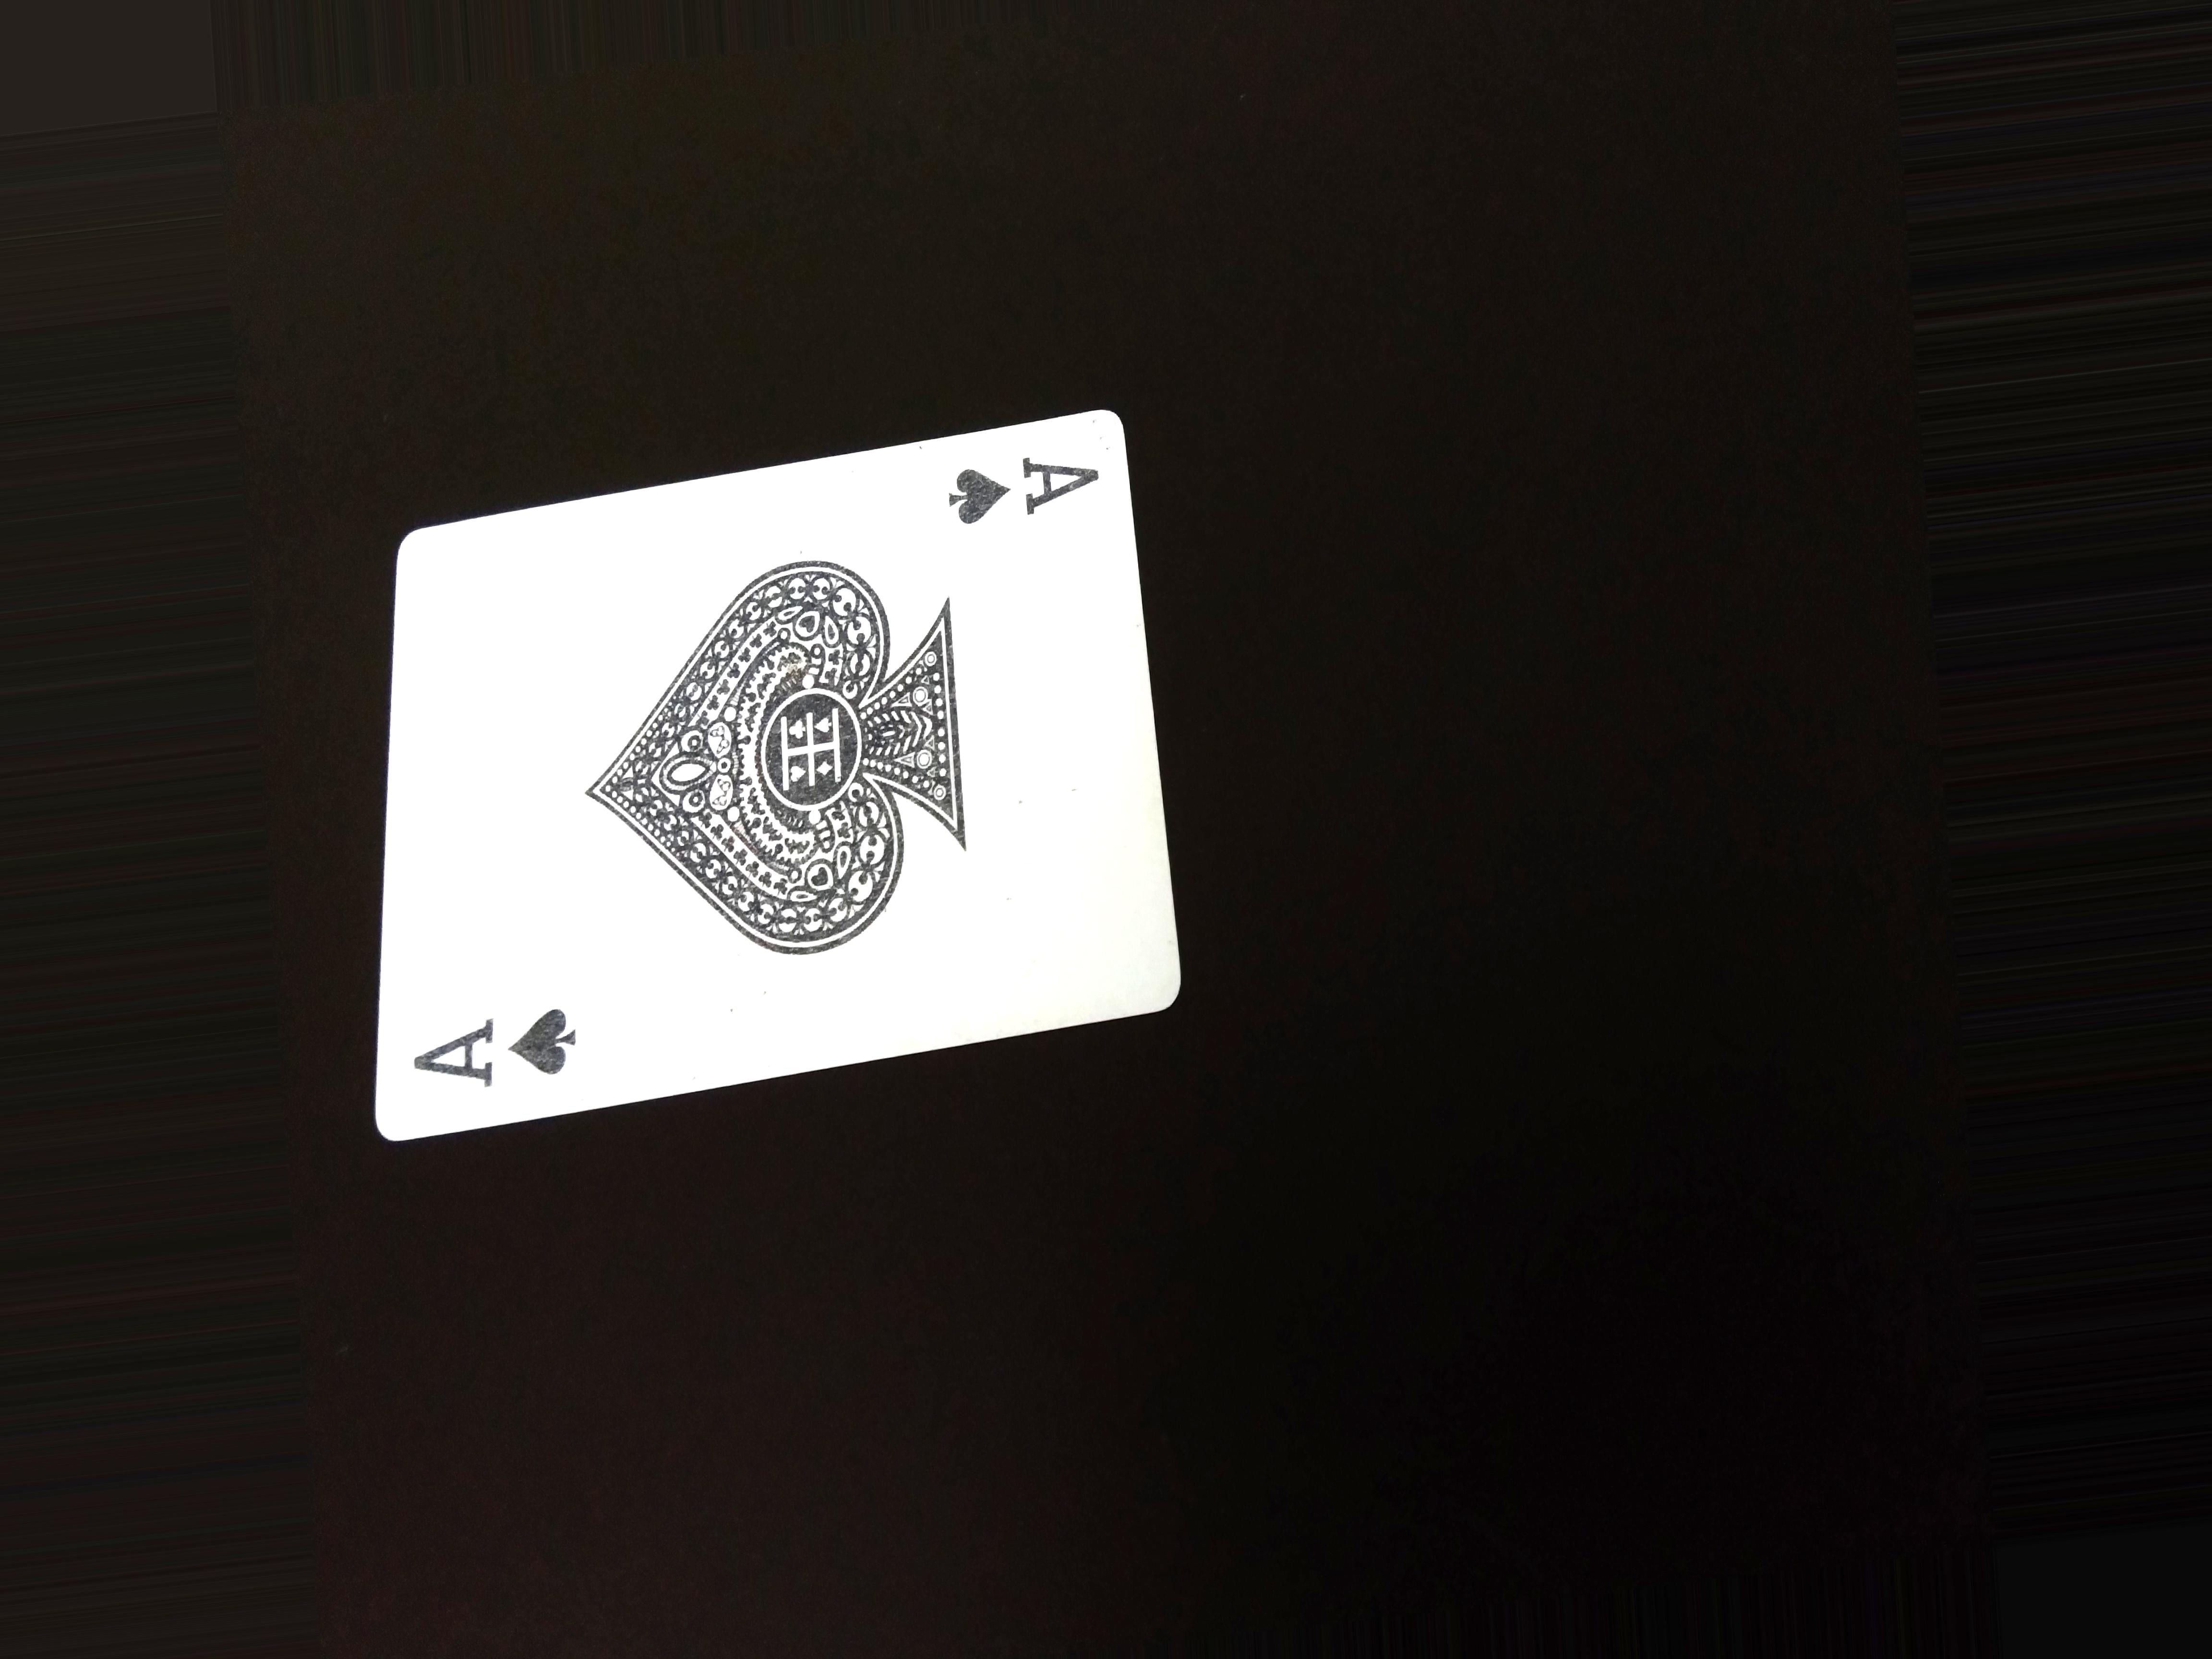AS: (928, 444, 1122, 559)
